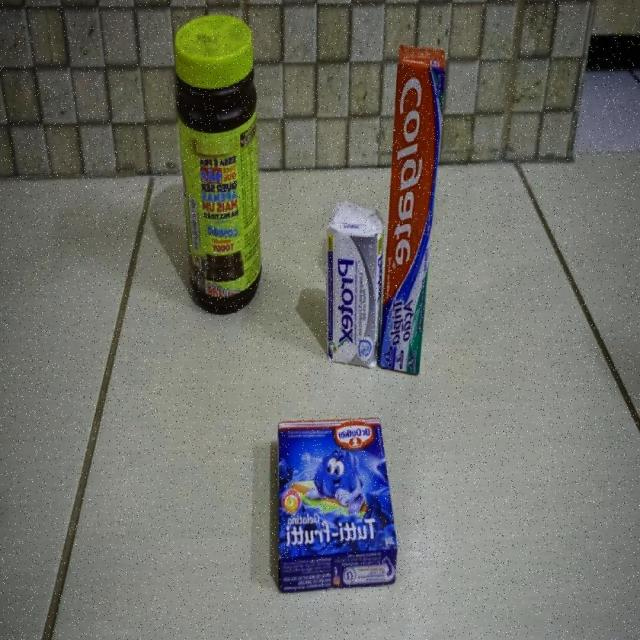ChocolatePowder: (174, 12, 262, 314)
Gelatine: (274, 418, 397, 593)
Soap: (326, 202, 383, 368)
Toothpaste: (377, 43, 446, 380)
